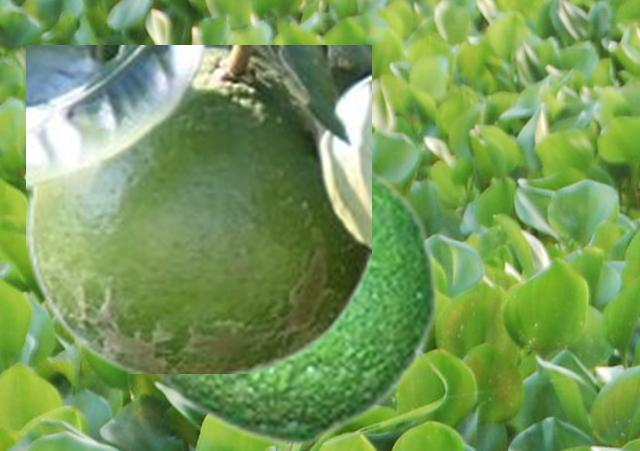dalandan: (26, 45, 370, 372), (146, 161, 439, 447)
